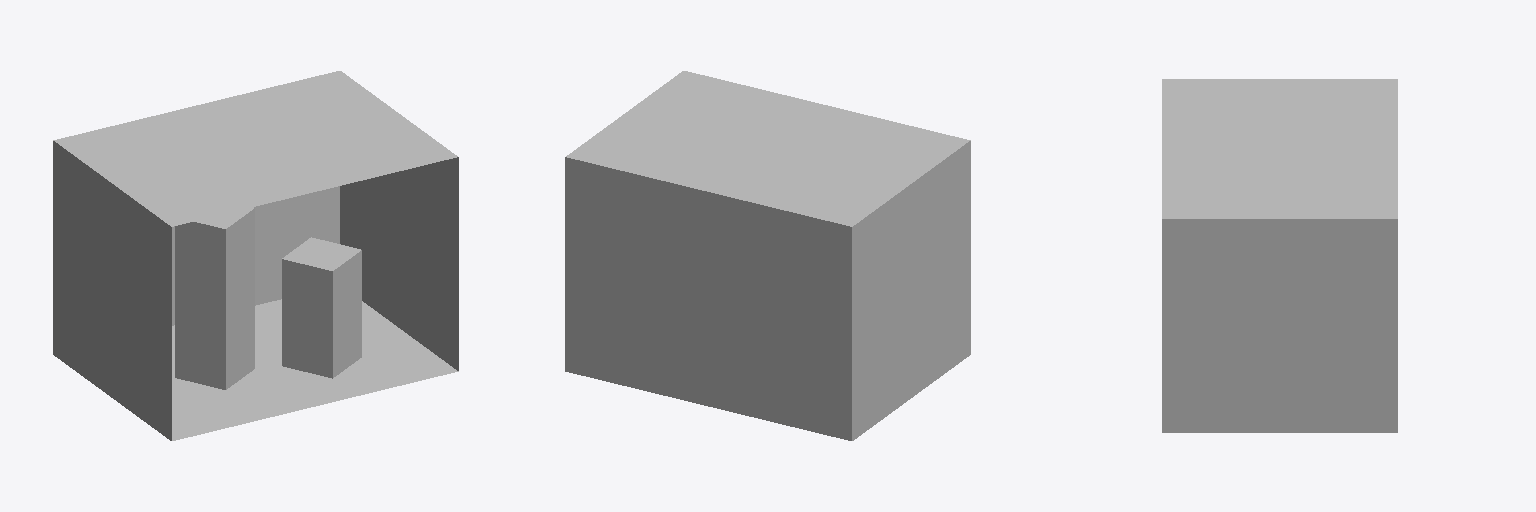
3 views of the same model, side by side, from view 1: azimuth 30°, elevation 25°; view 2: azimuth 150°, elevation 25°; view 3: azimuth 270°, elevation 25° (orthographic).
Visible parts, largest first — view 1: Ceiling, LeftWall, RightWall, Floor, TallBox, ShortBox, BackWall; view 2: BackWall, Ceiling, LeftWall; view 3: RightWall, Ceiling.
Boxes of the visible parts, box(x1,y1,x2,y2) form: Ceiling: box(53, 71, 457, 226); LeftWall: box(53, 141, 171, 440); RightWall: box(340, 157, 458, 370); Floor: box(172, 299, 458, 440); TallBox: box(175, 207, 254, 389); ShortBox: box(282, 237, 361, 378); BackWall: box(172, 186, 339, 325); BackWall: box(565, 157, 851, 440); Ceiling: box(566, 71, 970, 226); LeftWall: box(852, 141, 970, 440); RightWall: box(1162, 219, 1397, 432); Ceiling: box(1162, 79, 1397, 218).
Size of the model in its own units: 56 by 40 by 40.